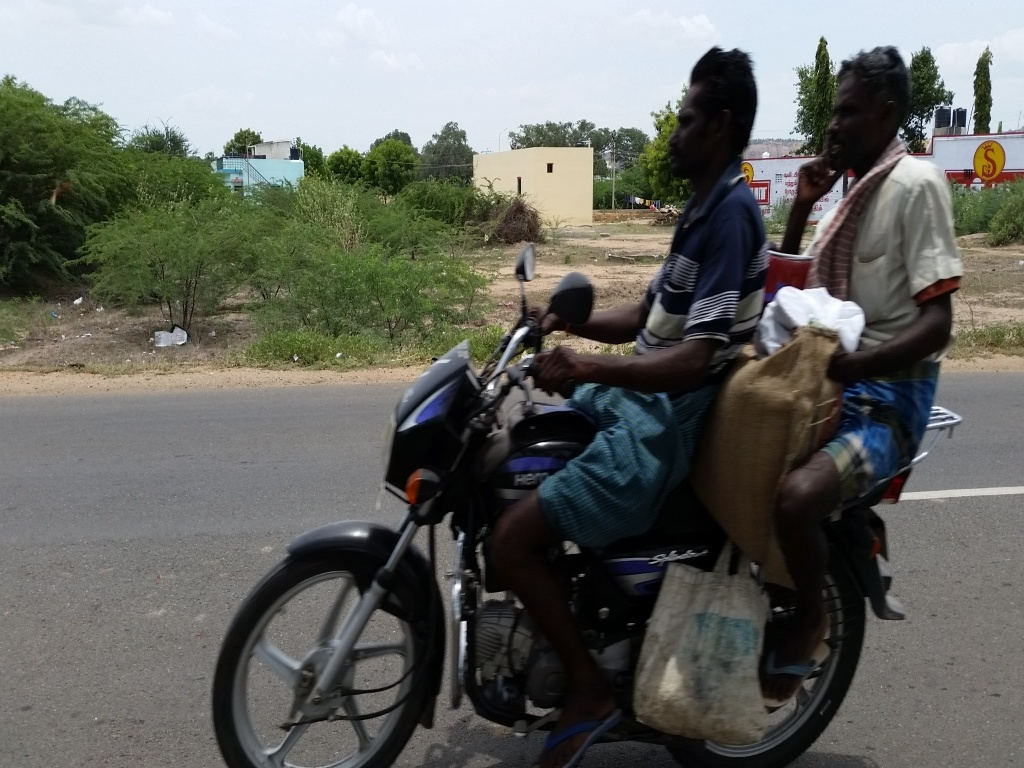biker: (192, 1, 1024, 768)
nohelmet: (813, 28, 930, 191), (656, 31, 773, 194)
